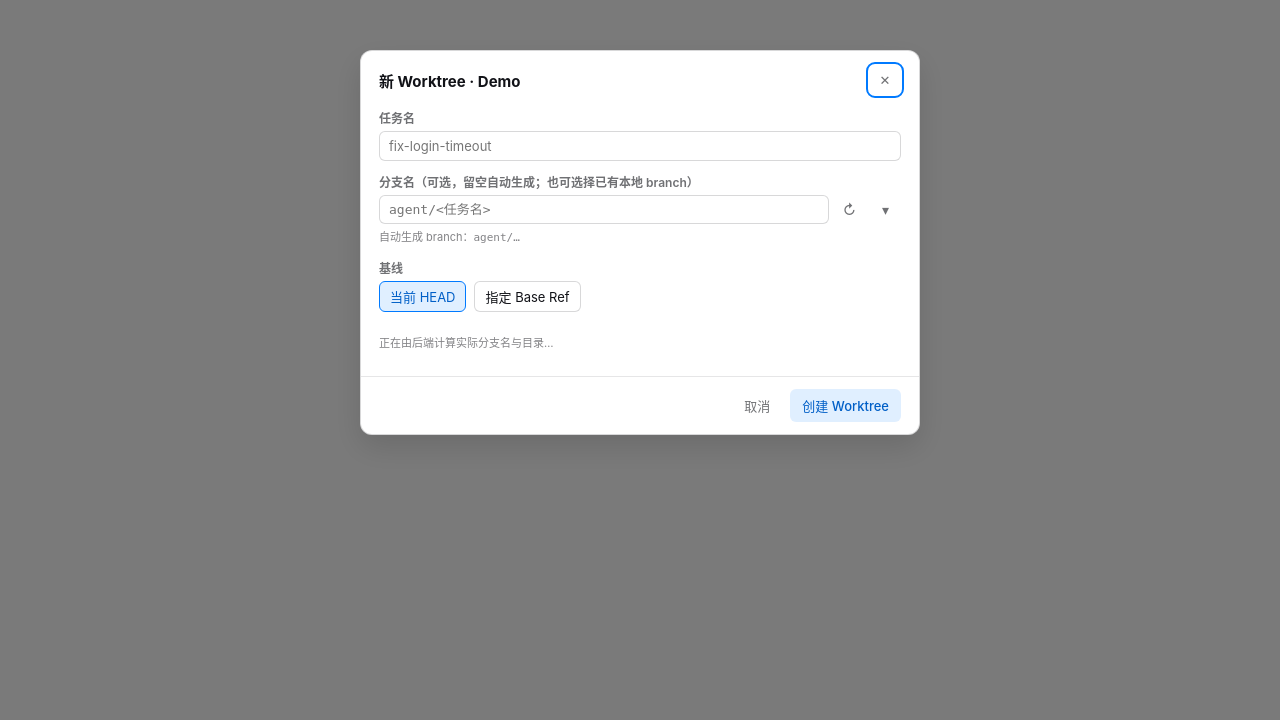
Test: New Worktree local branch picker › refreshes a stale selected branch after backend rejection and preserves the task
In the field labelled "任务名": (640, 146) left=379, top=131, right=901, bottom=161, type "keep this task"
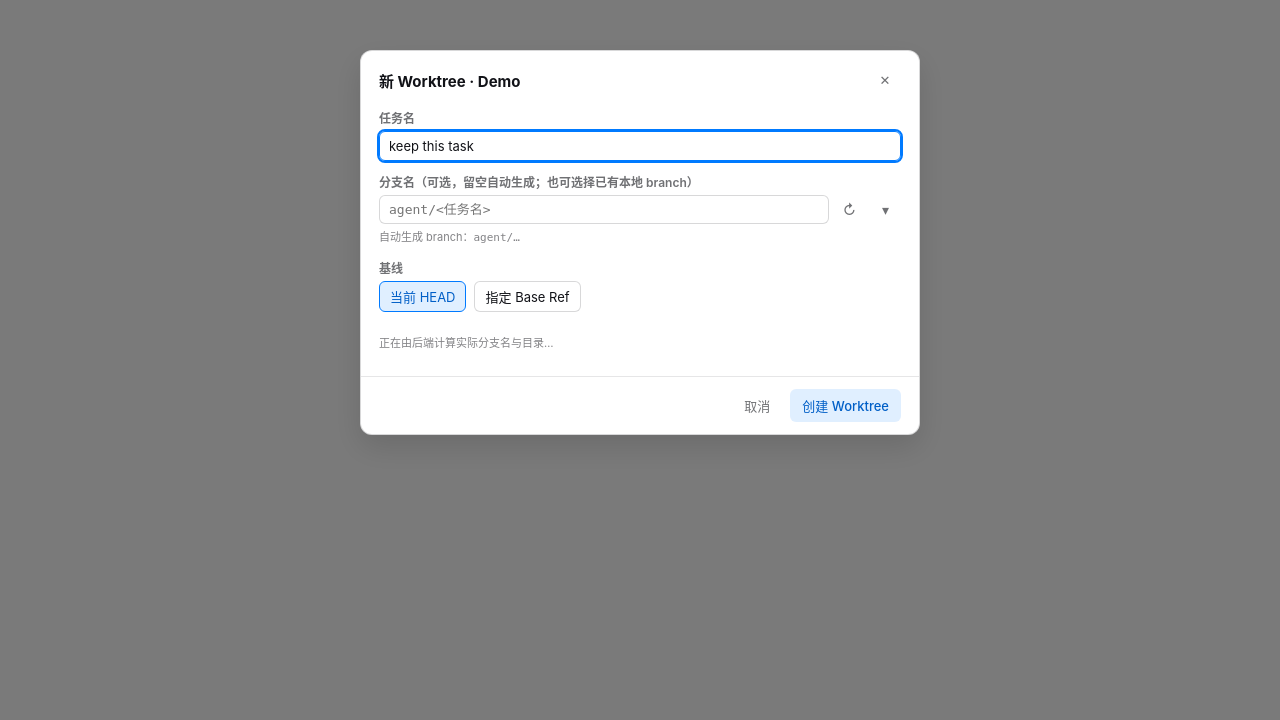
In the dropdown labelled "本地 branch": (604, 210) left=379, top=195, right=829, bottom=224, type "local"
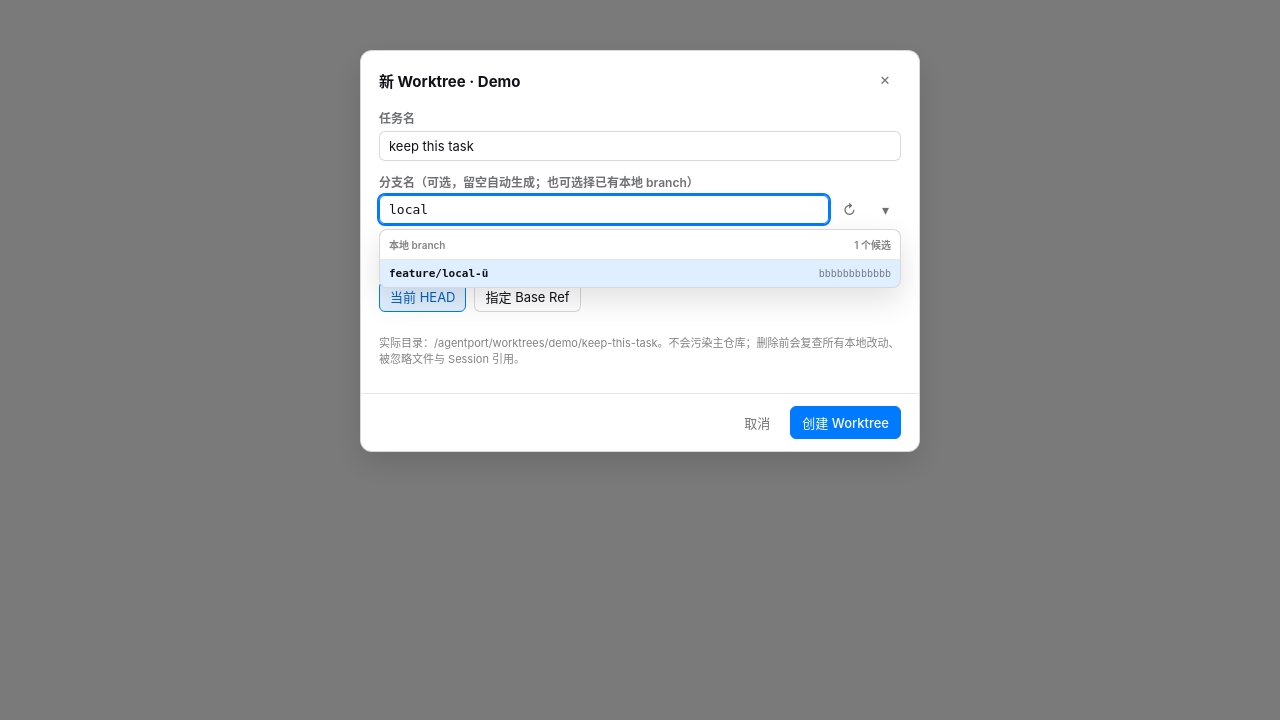
Press Arrowdown Enter
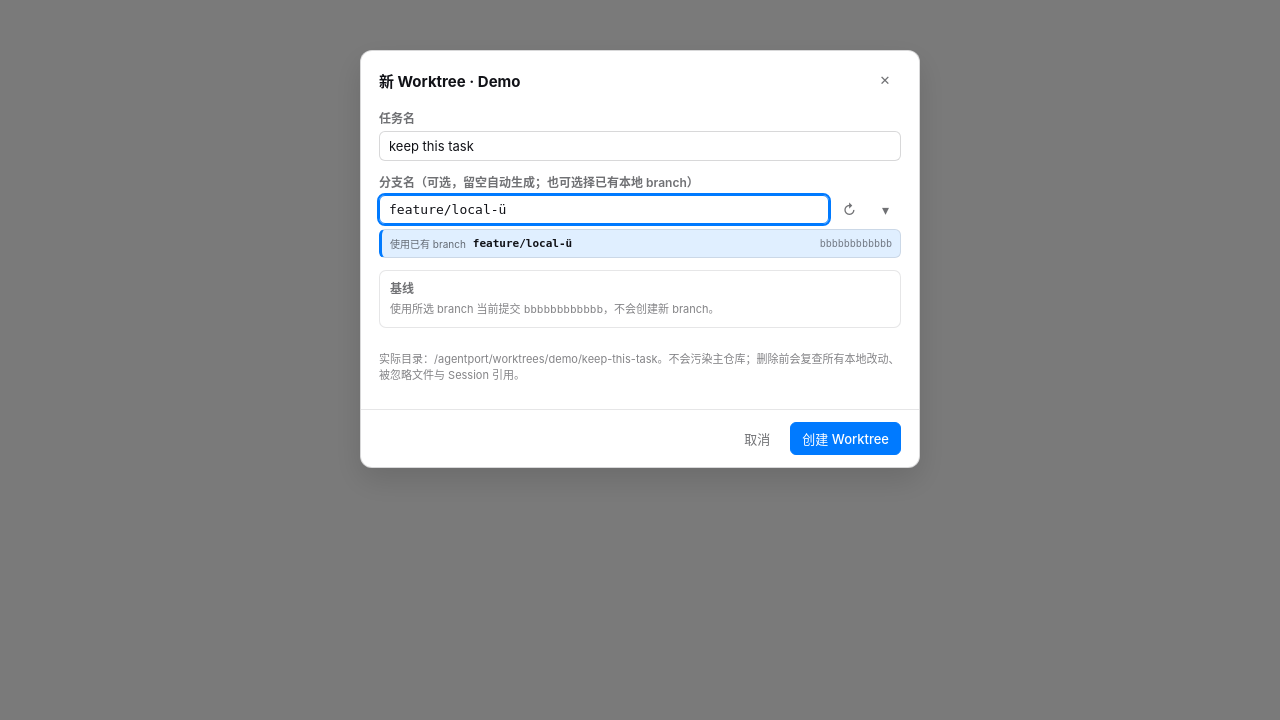
Click the button "创建 Worktree": (846, 438) left=790, top=422, right=901, bottom=455
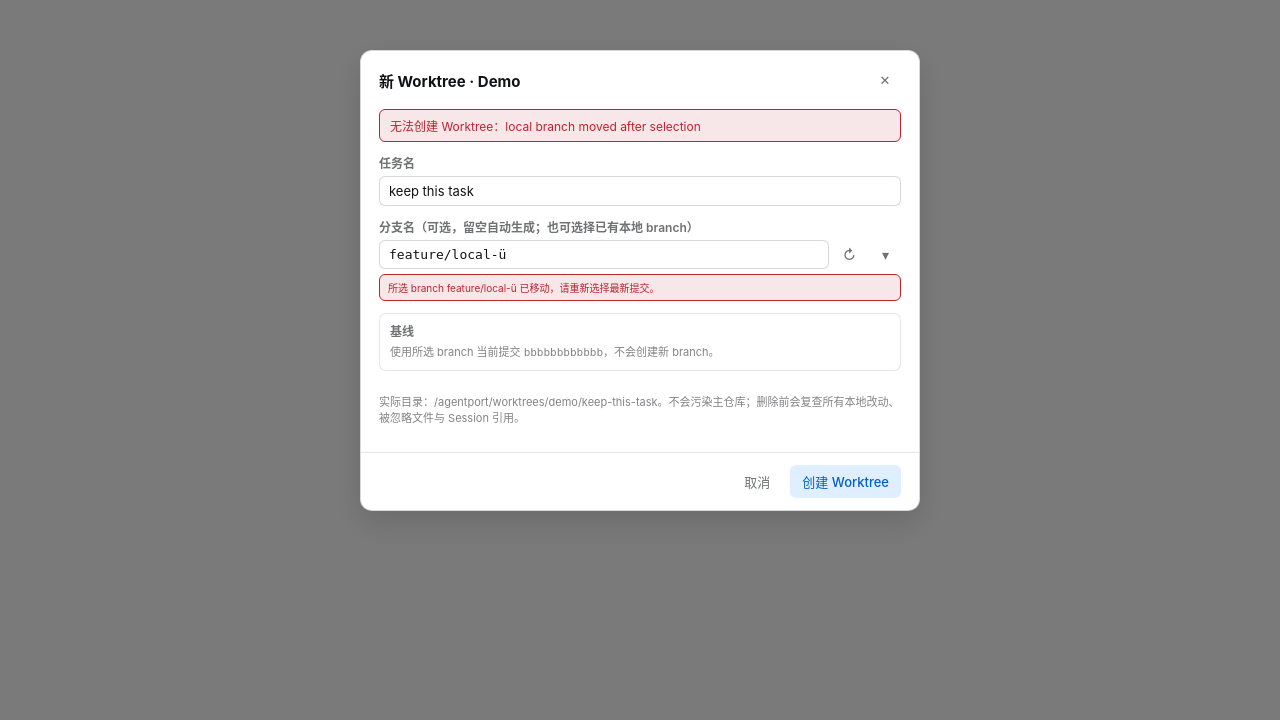
Result: the text "无法创建 Worktree：local branch moved after selection" is shown at left=379, top=109, right=901, bottom=142
Result: the text "所选 branch feature/local-ü 已移动，请重新选择最新提交。" is shown at left=379, top=274, right=901, bottom=301
Result: the button "创建 Worktree" is disabled at left=790, top=465, right=901, bottom=498
